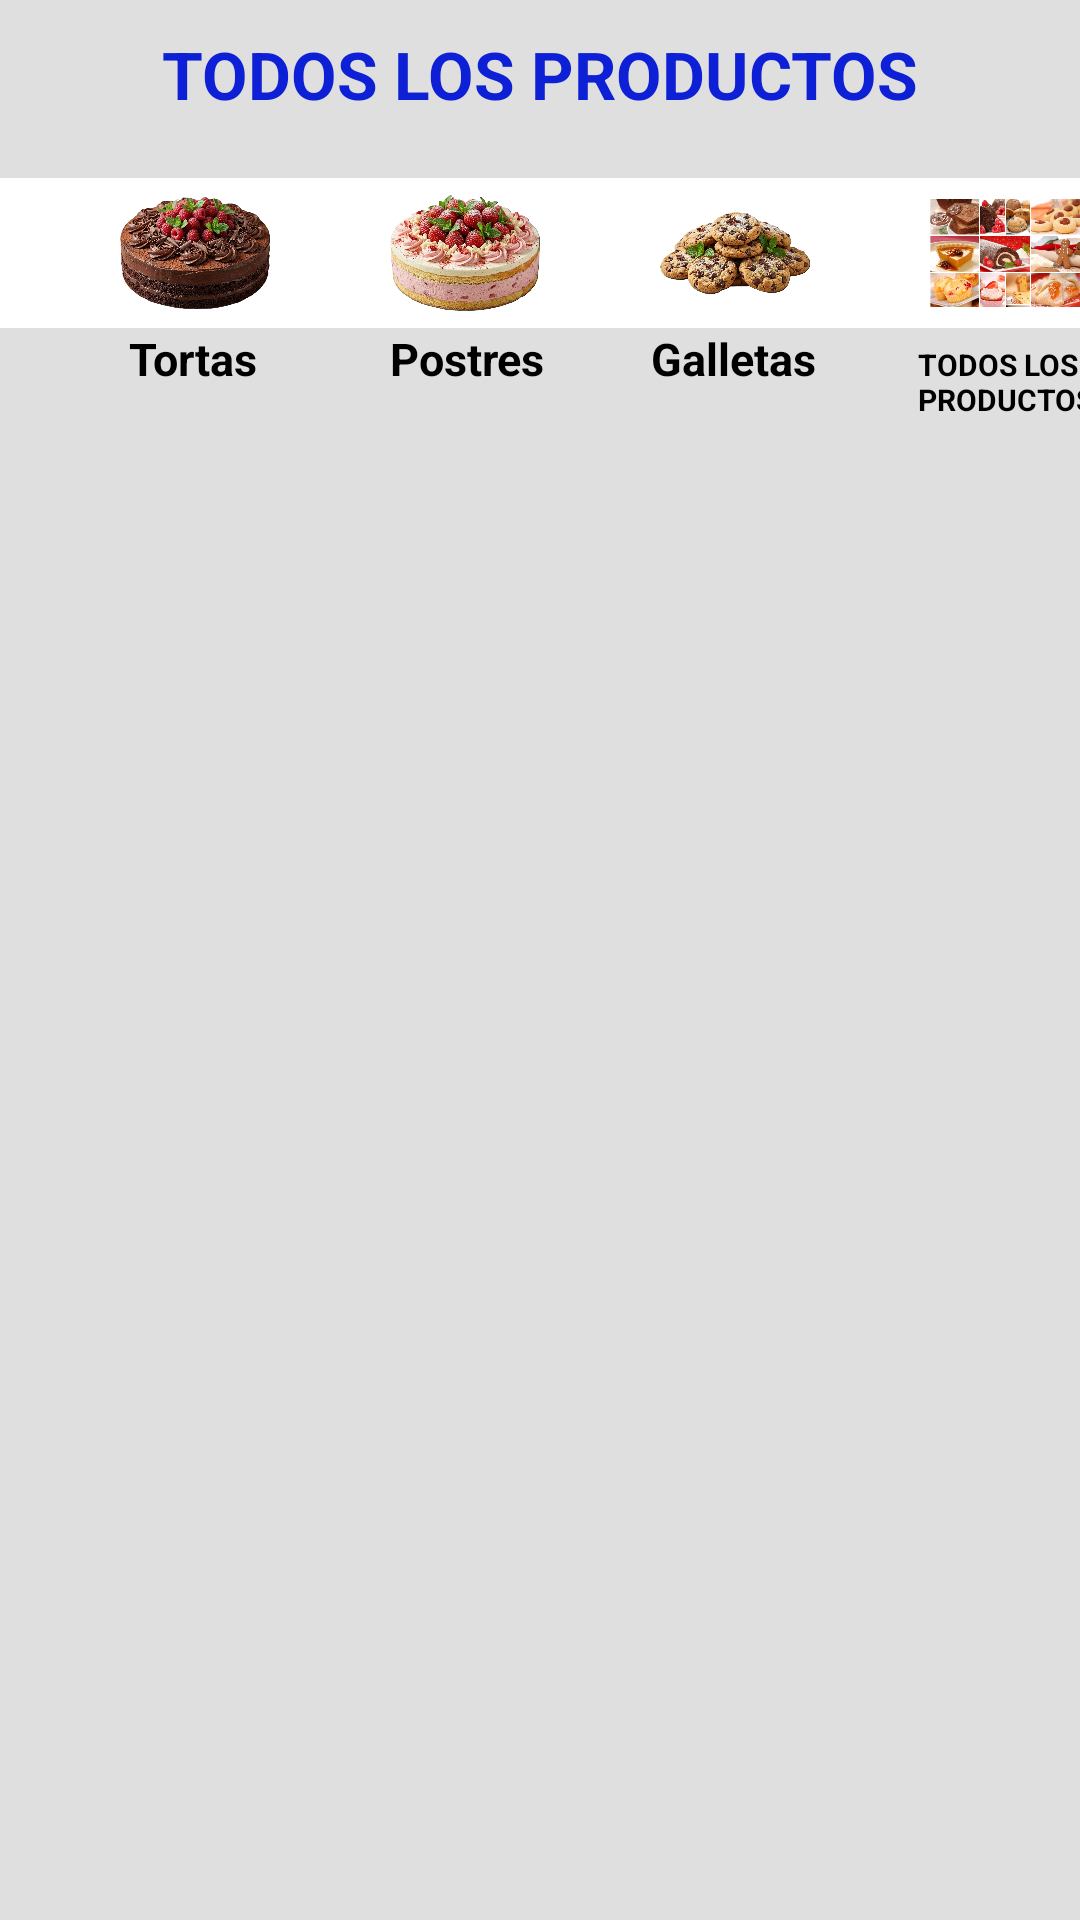

Locate icon controls on the screen. Image size 1080px x 1920px, boxes as (x1, y1, x2, y2).
torta chocolate: (120, 197, 270, 309)
